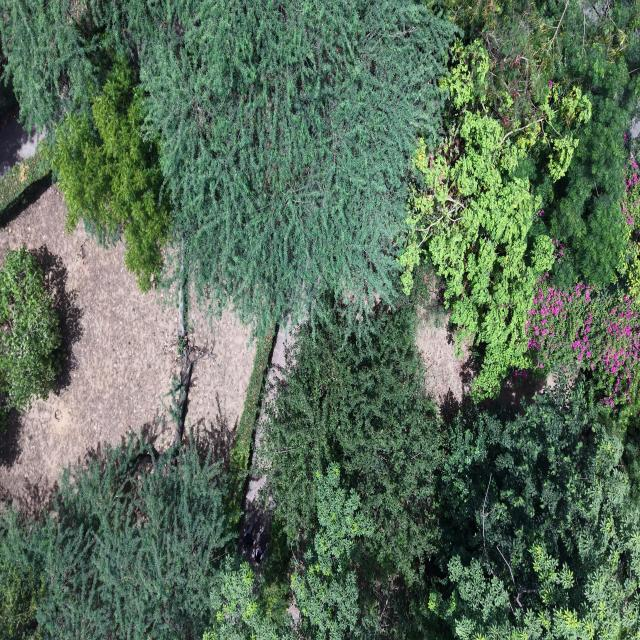DRY_AREA: (0, 187, 178, 511), (238, 318, 295, 570), (238, 323, 295, 570), (244, 318, 296, 521), (416, 274, 473, 407), (417, 306, 477, 420), (417, 308, 471, 403), (0, 116, 37, 176)
VEGETATION_TREE: (0, 0, 639, 639), (2, 0, 639, 397), (0, 381, 639, 639), (2, 0, 453, 332), (140, 0, 452, 328), (400, 3, 639, 397), (341, 380, 638, 638), (434, 0, 639, 289), (0, 438, 292, 639), (400, 41, 554, 397), (428, 385, 639, 639), (263, 304, 440, 583), (2, 0, 172, 290), (0, 438, 234, 638), (438, 381, 619, 606), (32, 440, 233, 637), (535, 3, 639, 288), (203, 467, 374, 639), (526, 157, 639, 412), (51, 61, 172, 291), (443, 510, 639, 639), (0, 0, 127, 133), (526, 282, 639, 409), (291, 466, 374, 638), (0, 248, 61, 412), (230, 325, 275, 508), (203, 556, 292, 639), (0, 510, 43, 639), (258, 519, 294, 628), (0, 147, 51, 216), (617, 157, 639, 298), (0, 43, 18, 128), (0, 81, 17, 125)
